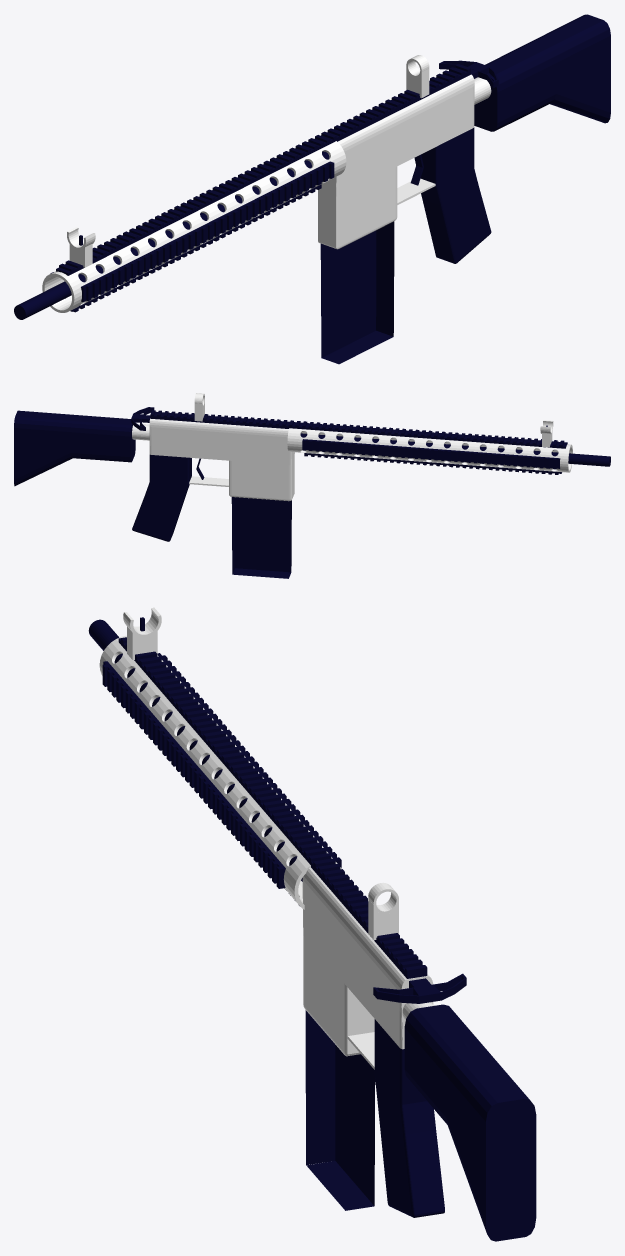
The model's file is stoner0015.obj.
3 views of the same model, one above another, from view 1: azimuth 30°, elevation 25°; view 2: azimuth 150°, elevation 25°; view 3: azimuth 270°, elevation 25° (orthographic). The views are drawn at different scales.
Visible parts, largest first — view 1: shoulderStock, mag, upperReceiver, rearPistolGrip, picatinyRail, handGuard, picatinyRailLeft, magWell, barrel, picatinyRailBottom, handle, lowerTriggerGuard (+1 smaller); view 2: shoulderStock, upperReceiver, mag, handGuard, rearPistolGrip, picatinyRail, picatinyRailRight, magWell, barrel, picatinyRailBottom, lowerTriggerGuard, handle; view 3: shoulderStock, mag, picatinyRail, rearPistolGrip, upperReceiver, handGuard, picatinyRailLeft, magWell, picatinyRailRight, handle, barrel, rearSight.
Part boxes in pixels (x1,y1,x2,y2): shoulderStock: (474, 14, 610, 131); mag: (320, 221, 394, 364); upperReceiver: (318, 74, 474, 196); rearPistolGrip: (420, 127, 491, 263); picatinyRail: (56, 64, 470, 275); handGuard: (42, 141, 346, 312); picatinyRailLeft: (81, 161, 334, 302); magWell: (318, 166, 397, 249); barrel: (14, 151, 329, 319); picatinyRailBottom: (70, 184, 321, 312); handle: (439, 60, 498, 88); lowerTriggerGuard: (397, 178, 435, 204); shoulderStock: (14, 410, 135, 486); upperReceiver: (149, 418, 294, 465); mag: (231, 497, 291, 578); handGuard: (287, 428, 572, 472); rearPistolGrip: (132, 454, 191, 541); picatinyRail: (150, 410, 567, 448); picatinyRailRight: (302, 439, 560, 469); magWell: (229, 459, 294, 501); barrel: (300, 433, 610, 466); picatinyRailBottom: (304, 453, 561, 474); lowerTriggerGuard: (189, 476, 228, 486); handle: (131, 407, 154, 430); shoulderStock: (404, 1004, 536, 1241); mag: (305, 1010, 375, 1210); picatinyRail: (118, 637, 427, 978); rearPistolGrip: (374, 1019, 444, 1217); upperReceiver: (302, 867, 433, 1049); handGuard: (99, 635, 345, 909); picatinyRailLeft: (102, 661, 285, 888); magWell: (303, 936, 374, 1056); picatinyRailRight: (157, 653, 341, 867); handle: (373, 973, 466, 1003); barrel: (88, 619, 302, 881); rearSight: (368, 899, 398, 940).
Bounding box in the file's own units: 8.56 × 2.88 × 3.34.
